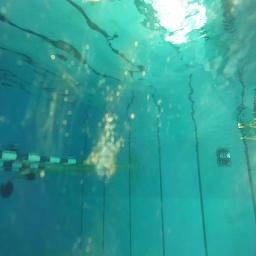front: (216, 149, 232, 167)
